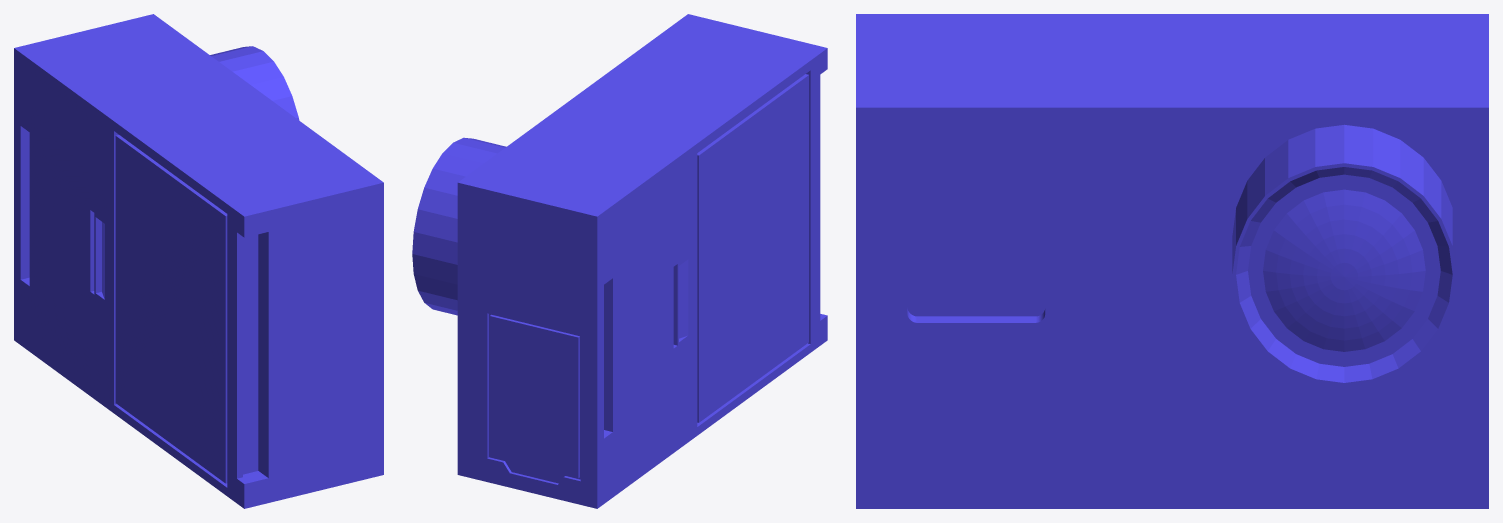
File: gopro.dae
3 renders of one model, left to right at view 1: azimuth 30°, elevation 25°; view 2: azimuth 150°, elevation 25°; view 3: azimuth 270°, elevation 25°, orthographic. The views are drawn at different scales.
Parts seen in each view (by area): view 1: Gopro; view 2: Gopro; view 3: Gopro.
Part boxes in pixels (<box>): Gopro: <box>14,14,383,508</box>; Gopro: <box>412,14,827,508</box>; Gopro: <box>856,14,1488,508</box>.
Size of the model in its own units: 0.03 by 0.06 by 0.042.
